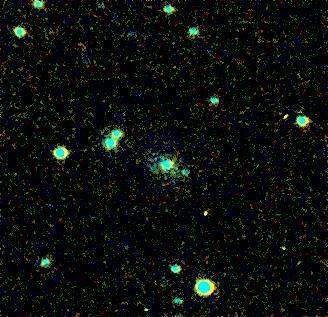star: (269, 232, 299, 262)
